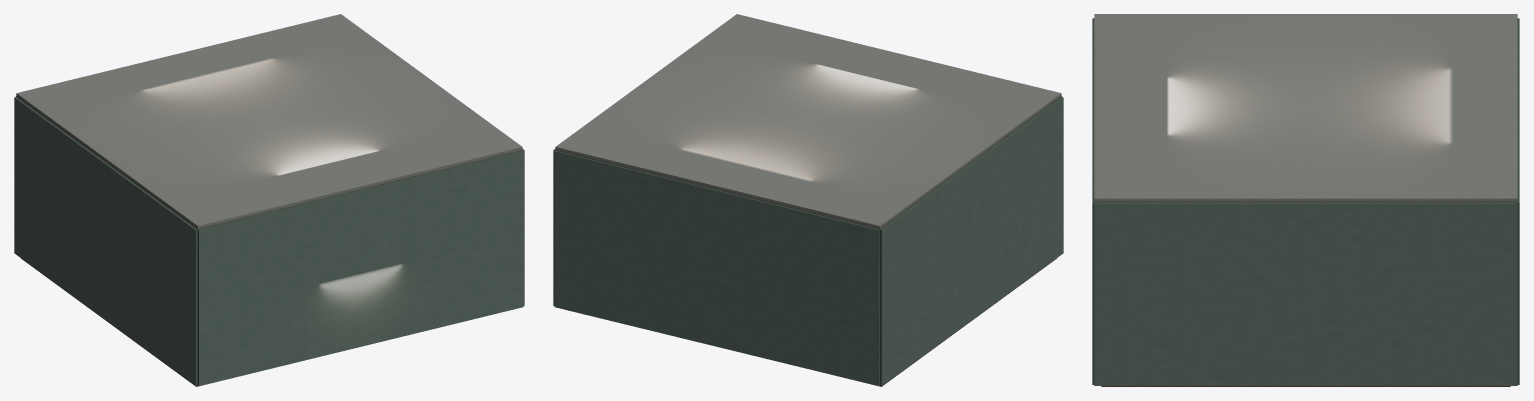
The picture shows the model from 3 angles, left to right: view 1: azimuth 30°, elevation 25°; view 2: azimuth 150°, elevation 25°; view 3: azimuth 270°, elevation 25°; orthographic projection. The views are drawn at different scales.
Visible parts, largest first — view 1: DiningRoom / baked game mesh; view 2: DiningRoom / baked game mesh; view 3: DiningRoom / baked game mesh.
Boxes of the visible parts, x1=… form: DiningRoom / baked game mesh: x1=14, y1=14, x2=524, y2=386; DiningRoom / baked game mesh: x1=553, y1=14, x2=1063, y2=386; DiningRoom / baked game mesh: x1=1092, y1=14, x2=1519, y2=386.
Bounding box in the file's own units: 6.48 × 3.08 × 6.26.
1 material, 1 textured.
